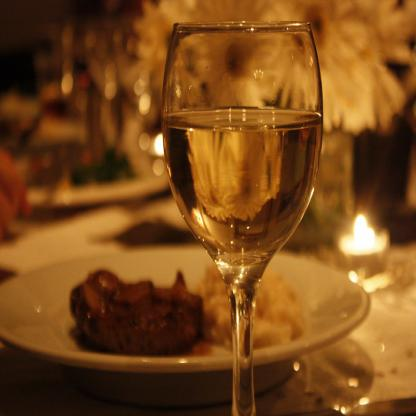drinking: (161, 22, 324, 415)
